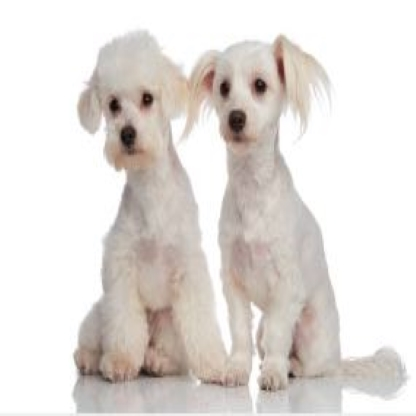maltese: (64, 28, 200, 374)
